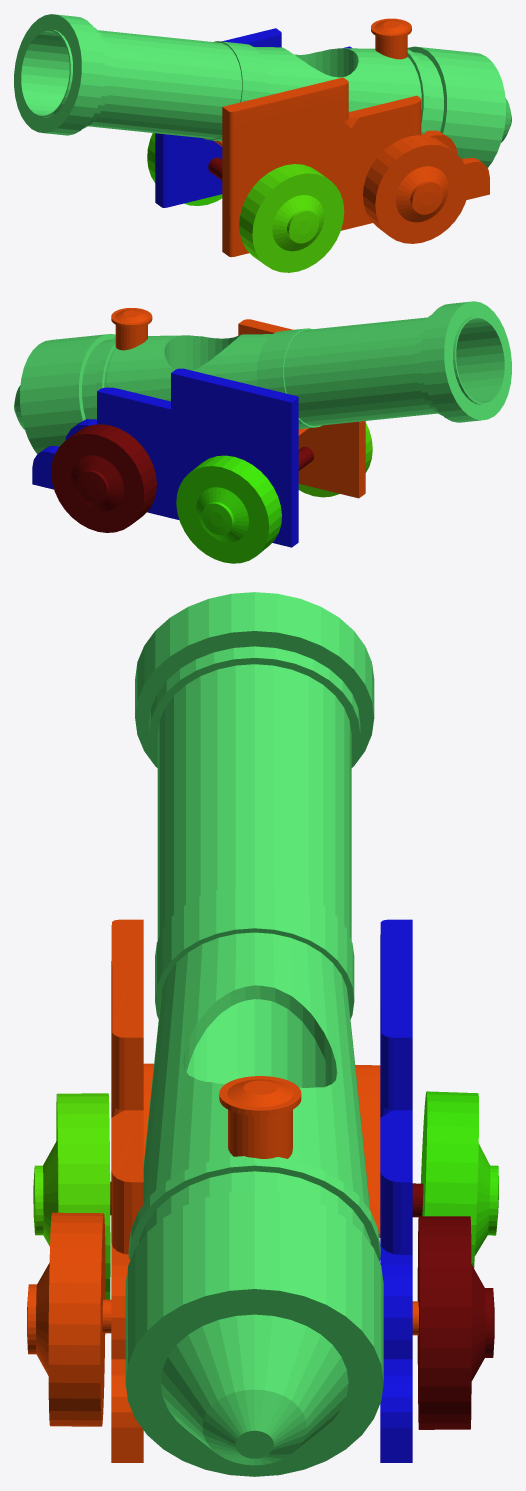
File: finalcanonNov19.glb
3 views of the same model, one above another, from view 1: azimuth 30°, elevation 25°; view 2: azimuth 150°, elevation 25°; view 3: azimuth 270°, elevation 25° (orthographic). The views are drawn at different scales.
Parts seen in each view (by area): view 1: Cylinder.003; view 2: Cylinder.003; view 3: Cylinder.003.
Boxes of the visible parts, bbox=[...] form: Cylinder.003: bbox=[14, 14, 511, 272]; Cylinder.003: bbox=[14, 301, 511, 563]; Cylinder.003: bbox=[27, 592, 498, 1476].
Bounding box in the file's own units: 0.3029 × 0.1591 × 0.1297.
